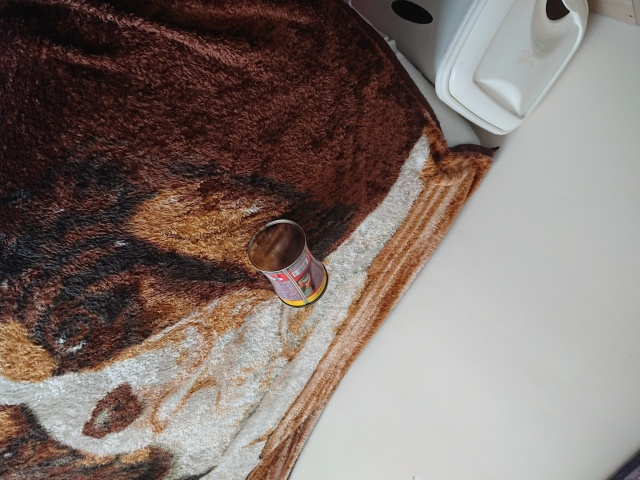Nescafe Classic 225g: (245, 216, 331, 310)
